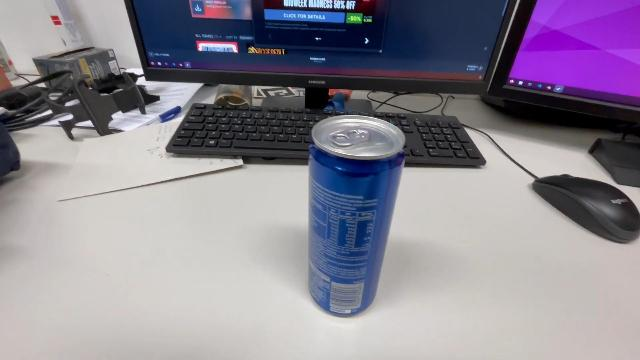Pepsi: (304, 108, 408, 322)
